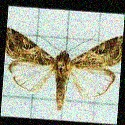Spodoptera litura: (3, 30, 119, 110)
